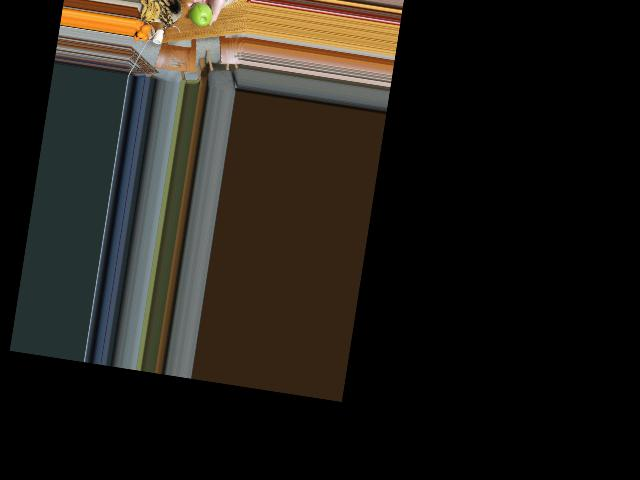apple: (188, 0, 214, 29)
